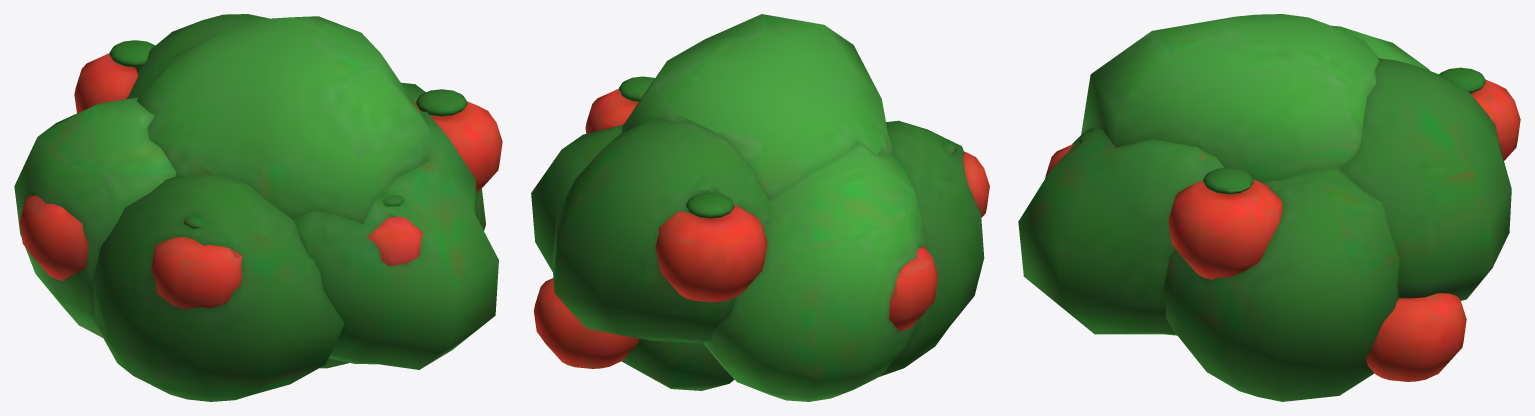
Rendered from crop_tomato.glb.
3 renders of one model, left to right at view 1: azimuth 30°, elevation 25°; view 2: azimuth 150°, elevation 25°; view 3: azimuth 270°, elevation 25°, orthographic. The views are drawn at different scales.
Parts seen in each view (by area): view 1: crop_tomato, fruit; view 2: crop_tomato, fruit; view 3: crop_tomato, fruit.
Part boxes in pixels (<box>): crop_tomato: <box>14,14,498,401</box>; fruit: <box>19,53,502,309</box>; crop_tomato: <box>531,14,984,401</box>; fruit: <box>534,88,989,368</box>; crop_tomato: <box>1018,14,1511,401</box>; fruit: <box>1045,80,1520,381</box>.
Size of the model in its own units: 0.2659 by 0.2091 by 0.275.
1 material, 1 textured.
